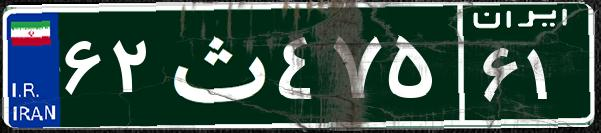1: (525, 38, 570, 115)
2: (110, 28, 158, 105)
4: (273, 28, 330, 110)
5: (385, 28, 445, 110)
6: (57, 26, 110, 107), (475, 38, 525, 113)
7: (330, 28, 385, 110)
ث: (158, 15, 273, 115)
